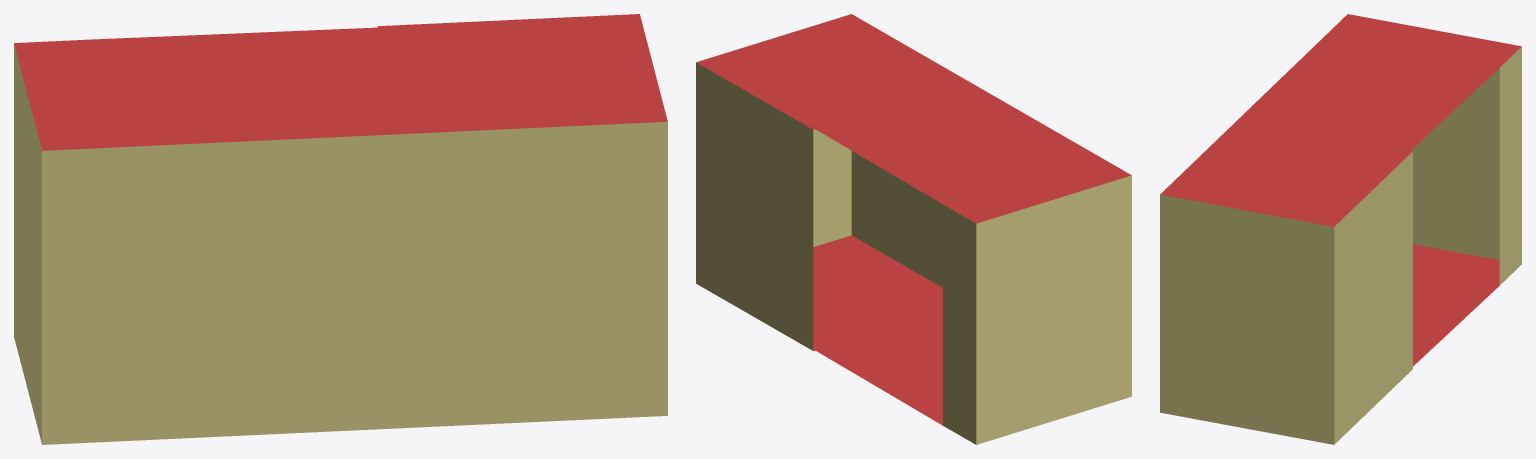
3 views of the same model, side by side, from view 1: azimuth 30°, elevation 25°; view 2: azimuth 150°, elevation 25°; view 3: azimuth 270°, elevation 25° (orthographic). The views are drawn at different scales.
Parts seen in each view (by area): view 1: group_4, group_3; view 2: group_4, group_3, group_5; view 3: group_4, group_3, group_5.
Part boxes in pixels (x1,y1,x2,y2): group_4: (14,26,667,444); group_3: (14,14,667,150); group_4: (696,62,1131,444); group_3: (696,14,1131,223); group_5: (813,235,942,425); group_4: (1160,46,1521,444); group_3: (1160,14,1521,226); group_5: (1413,244,1499,366).
Size of the model in its own units: 13.89 by 9.97 by 6.63.
